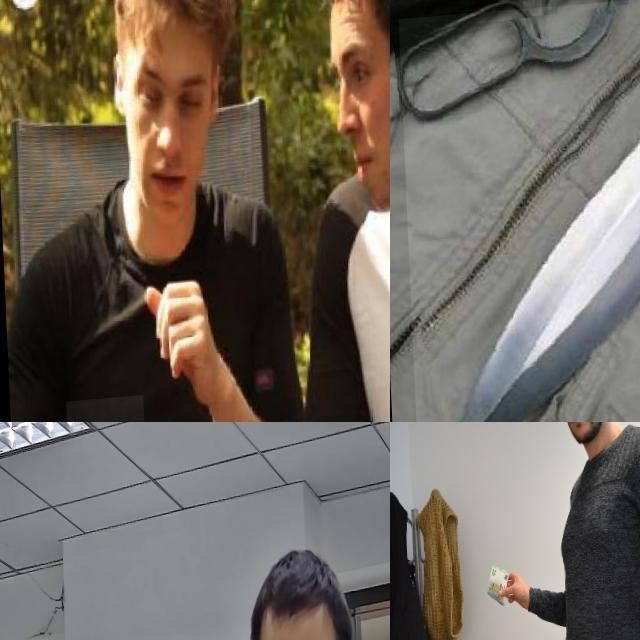-: (396, 0, 640, 422)
